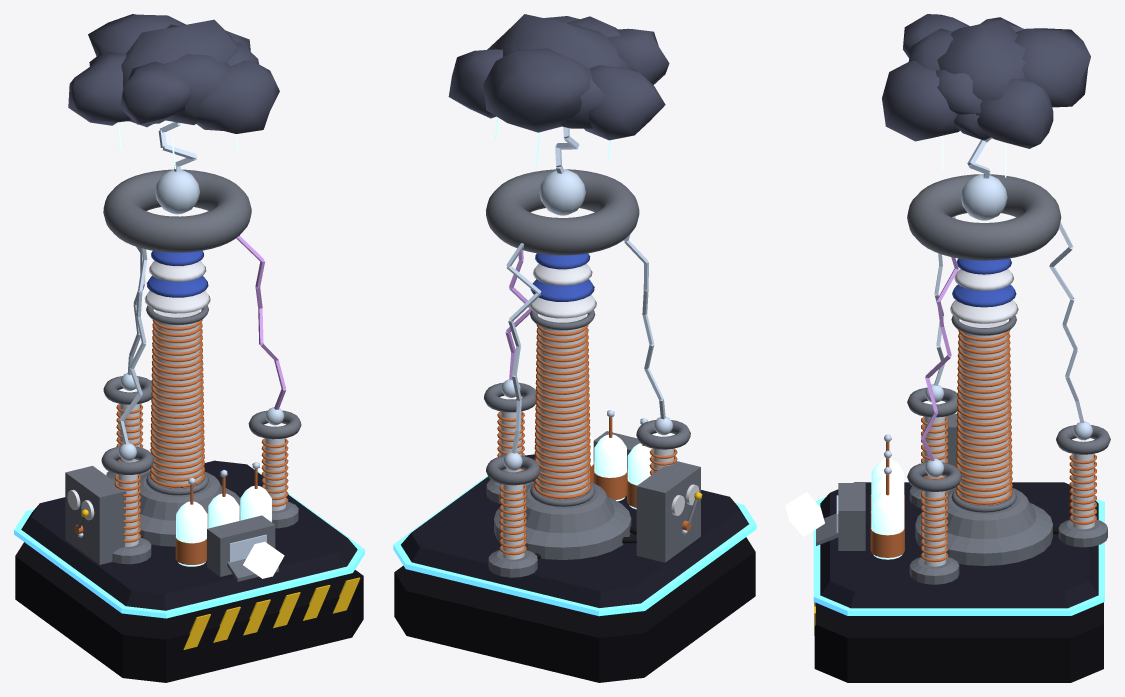
Rendered from TempestCoilMine_Roblox.fbx.
The picture shows the model from 3 angles, left to right: view 1: azimuth 30°, elevation 25°; view 2: azimuth 150°, elevation 25°; view 3: azimuth 270°, elevation 25°; orthographic projection. The views are drawn at different scales.
Parts seen in each view (by area): view 1: Steel, Black, StormCloud, StormMarble, Copper, Ceramic, Lightning, VoltTrim, JarGlass, HazardYellow, BlueGlaze, ChargedOre (+1 smaller); view 2: Steel, Black, StormCloud, StormMarble, Copper, Ceramic, Lightning, VoltTrim, JarGlass, BlueGlaze, VioletArc; view 3: Steel, StormCloud, Black, StormMarble, Copper, Ceramic, Lightning, VoltTrim, JarGlass, BlueGlaze, ChargedOre, VioletArc.
Part boxes in pixels (x1,y1,x2,y2): Steel: (65, 169, 301, 581); Black: (15, 542, 363, 682); StormCloud: (68, 14, 279, 133); StormMarble: (21, 460, 357, 610); Copper: (74, 319, 288, 564); Ceramic: (67, 260, 285, 546); Lightning: (78, 122, 284, 562); VoltTrim: (14, 471, 364, 618); JarGlass: (117, 122, 271, 566); HazardYellow: (81, 509, 360, 649); BlueGlaze: (146, 250, 208, 297); ChargedOre: (243, 542, 284, 578); Steel: (484, 169, 700, 577); Black: (394, 537, 755, 682); StormCloud: (448, 14, 669, 140); StormMarble: (401, 454, 748, 607); Copper: (497, 324, 691, 555); Ceramic: (500, 264, 699, 559); Lightning: (501, 127, 687, 534); VoltTrim: (393, 475, 756, 616); JarGlass: (495, 117, 652, 509); BlueGlaze: (530, 253, 594, 301); VioletArc: (505, 250, 531, 379); Steel: (816, 174, 1110, 584); StormCloud: (882, 14, 1090, 148); Black: (814, 602, 1103, 682); StormMarble: (820, 482, 1098, 608); Copper: (870, 330, 1096, 562); Ceramic: (923, 269, 1094, 566); Lightning: (836, 137, 1092, 532); VoltTrim: (813, 497, 1104, 615); JarGlass: (871, 135, 1039, 559); BlueGlaze: (952, 258, 1016, 307); ChargedOre: (785, 492, 824, 536); VioletArc: (921, 257, 958, 461).
Bounding box in the file's own units: 1058 × 2394 × 1183.
